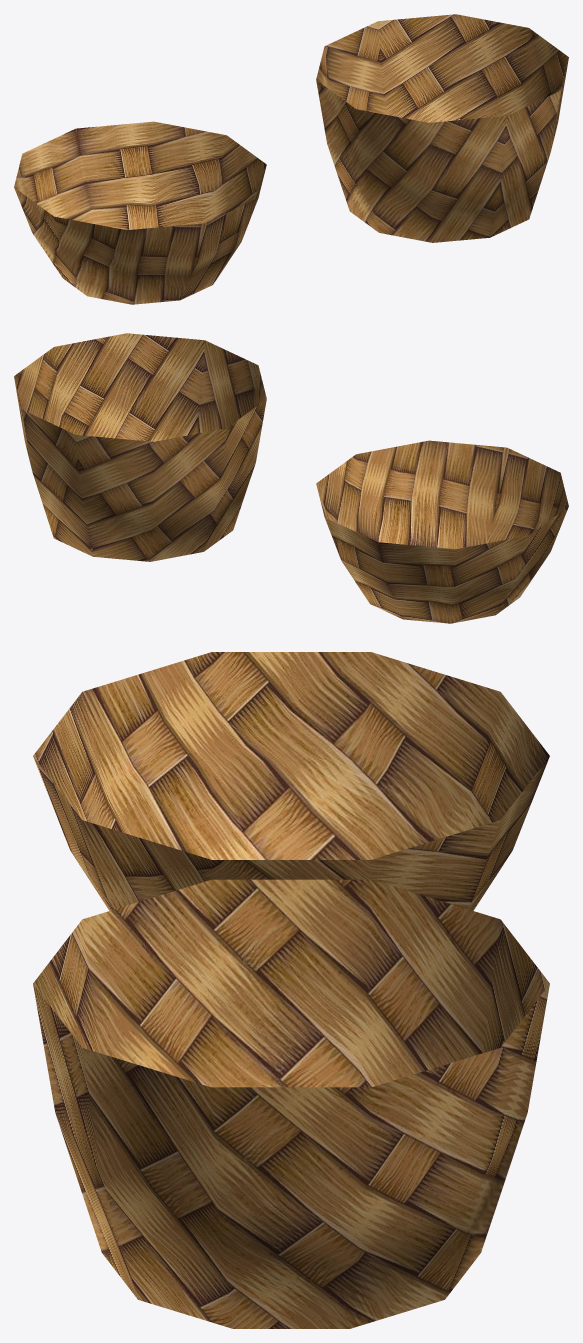
Rendered from SM_Thokari.fbx.
3 renders of one model, top to bottom at view 1: azimuth 30°, elevation 25°; view 2: azimuth 150°, elevation 25°; view 3: azimuth 270°, elevation 25°, orthographic. The views are drawn at different scales.
Visible parts, largest first — view 1: SM_Thokari_2, SM_Thokari; view 2: SM_Thokari_2, SM_Thokari; view 3: SM_Thokari_2, SM_Thokari.
Part boxes in pixels (left/top/right/bottom): SM_Thokari_2: left=316, top=14, right=568, bottom=242; SM_Thokari: left=14, top=121, right=266, bottom=304; SM_Thokari_2: left=14, top=333, right=266, bottom=561; SM_Thokari: left=316, top=440, right=568, bottom=623; SM_Thokari_2: left=33, top=879, right=549, bottom=1328; SM_Thokari: left=33, top=652, right=549, bottom=910.
Size of the model in its own units: 801 by 200 by 348.
1 material, 1 textured.
